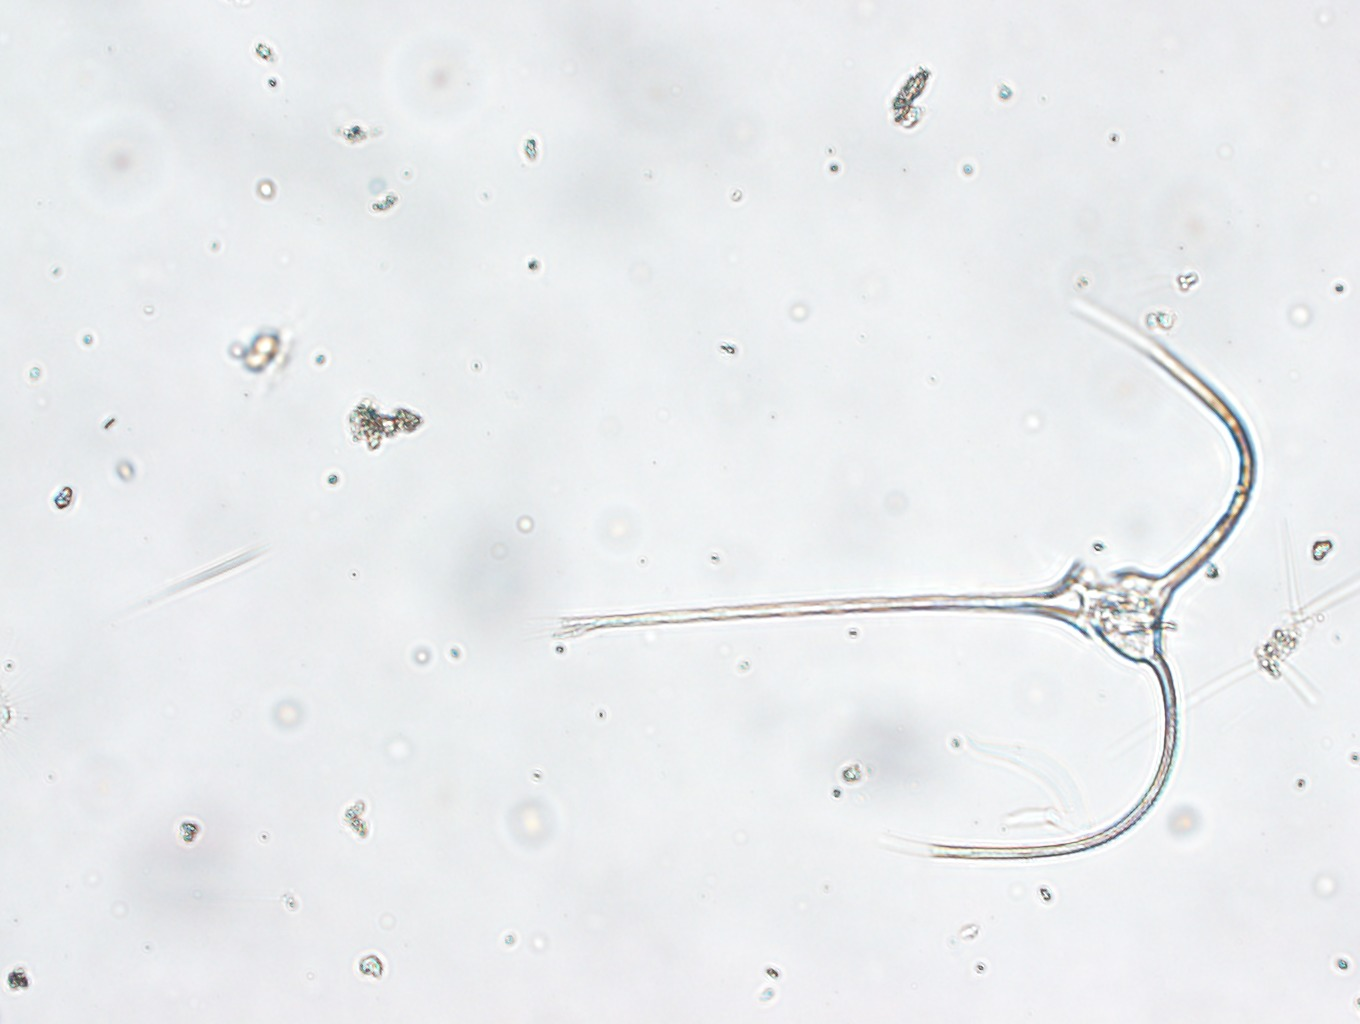ceratium trichoceros: (536, 307, 1263, 867)
